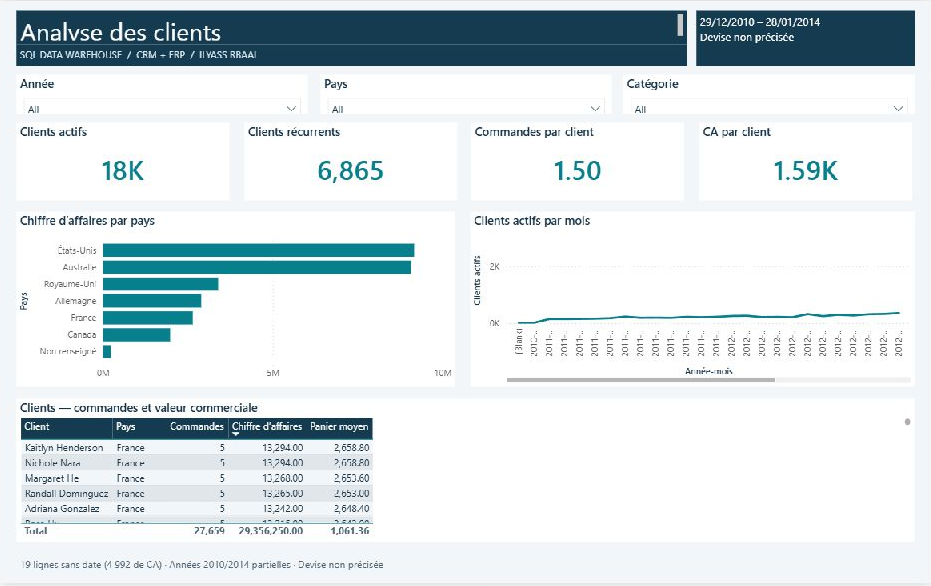

The dashboard page shown, as its layout file describes it:
{"tool":"powerbi","page":{"name":"03 · Clients","canvas":[1280,800],"ordinal":2},"visuals":[{"type":"textbox","box":[24,14,920,46],"z":14},{"type":"textbox","box":[24,61,920,29],"z":15},{"type":"textbox","box":[956,14,300,76],"z":16},{"type":"slicer","title":"Année","fields":{"Values":["Calendrier.Année"]},"box":[24,102,400,54],"z":17},{"type":"slicer","title":"Pays","fields":{"Values":["Clients.Pays"]},"box":[440,102,400,54],"z":18},{"type":"slicer","title":"Catégorie","fields":{"Values":["Produits.Catégorie"]},"box":[856,102,400,54],"z":19},{"type":"textbox","box":[24,759,1232,28],"z":20},{"type":"card","title":"Clients actifs","fields":{"Values":["Ventes.Clients actifs"]},"box":[24,168,292,106],"z":36},{"type":"card","title":"Clients récurrents","fields":{"Values":["Ventes.Clients récurrents"]},"box":[336,168,292,106],"z":37},{"type":"card","title":"Commandes par client","fields":{"Values":["Ventes.Commandes par client"]},"box":[648,168,292,106],"z":38},{"type":"card","title":"CA par client","fields":{"Values":["Ventes.CA par client"]},"box":[960,168,292,106],"z":39},{"type":"barChart","title":"Chiffre d’affaires par pays","fields":{"Category":["Clients.Pays"],"Y":["Ventes.Chiffre d’affaires"]},"box":[24,290,602,240],"z":40},{"type":"lineChart","title":"Clients actifs par mois","fields":{"Category":["Calendrier.Année-mois"],"Y":["Ventes.Clients actifs"]},"box":[646,290,610,240],"z":41},{"type":"tableEx","title":"Clients — commandes et valeur commerciale","fields":{"Values":["Clients.Client","Clients.Pays","Ventes.Commandes","Ventes.Chiffre d’affaires","Ventes.Panier moyen"]},"box":[24,546,1232,196],"z":42}]}

Visuals, with their boxes in screenshot pixels (x1, y1, x2, y2), scaled from the page's 1280x800 canvas onto the 931x586 screenshot:
textbox: (17,10,687,44)
textbox: (17,45,687,66)
textbox: (695,10,914,66)
"Année" slicer: (17,75,308,114)
"Pays" slicer: (320,75,611,114)
"Catégorie" slicer: (623,75,914,114)
textbox: (17,556,914,576)
"Clients actifs" card: (17,123,230,201)
"Clients récurrents" card: (244,123,457,201)
"Commandes par client" card: (471,123,684,201)
"CA par client" card: (698,123,911,201)
"Chiffre d’affaires par pays" barChart: (17,212,455,388)
"Clients actifs par mois" lineChart: (470,212,914,388)
"Clients — commandes et valeur commerciale" tableEx: (17,400,914,544)
